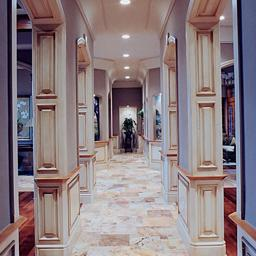Matera: (121, 118, 137, 157)
